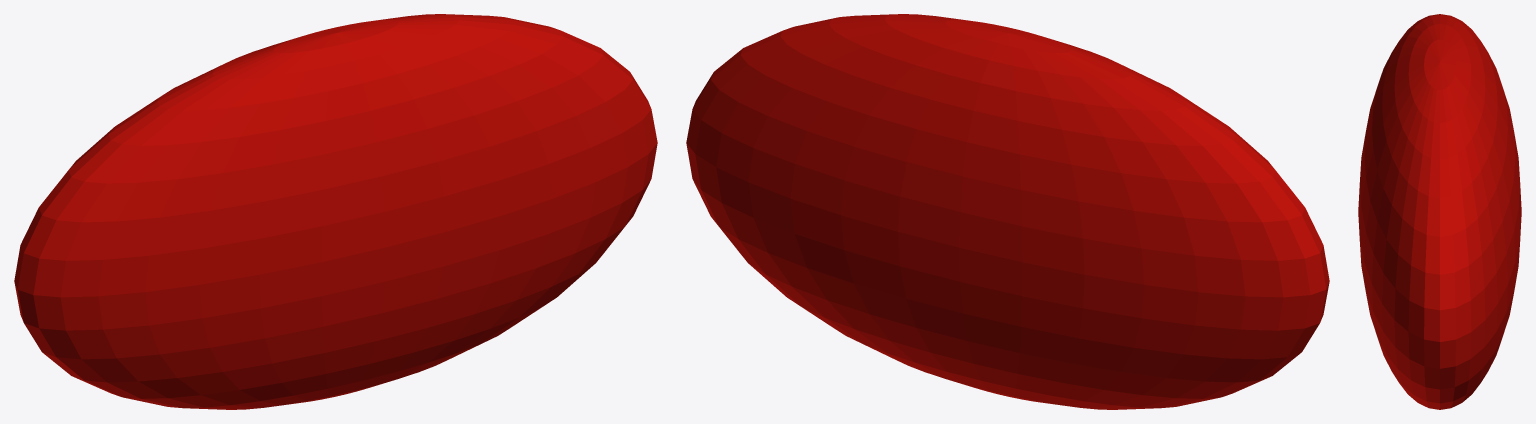
Rendered from FarCreatedMonster(redAir)_ballchild.glb.
The picture shows the model from 3 angles, left to right: view 1: azimuth 30°, elevation 25°; view 2: azimuth 150°, elevation 25°; view 3: azimuth 270°, elevation 25°; orthographic projection. The views are drawn at different scales.
Parts seen in each view (by area): view 1: Sphere; view 2: Sphere; view 3: Sphere.
Boxes of the visible parts, <box> form: Sphere: <box>14,14,657,409</box>; Sphere: <box>686,14,1329,409</box>; Sphere: <box>1358,14,1521,409</box>.
Bounding box in the file's own units: 2.19 × 1.17 × 0.5808.
